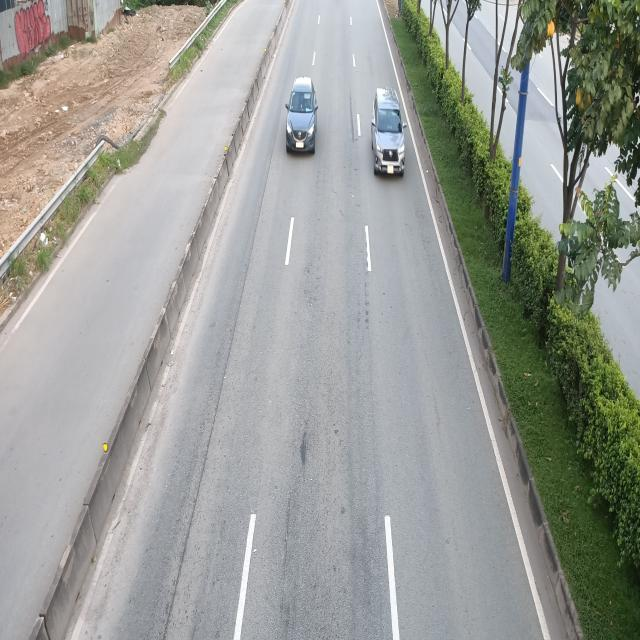car: (369, 88, 403, 178), (284, 76, 317, 153)
